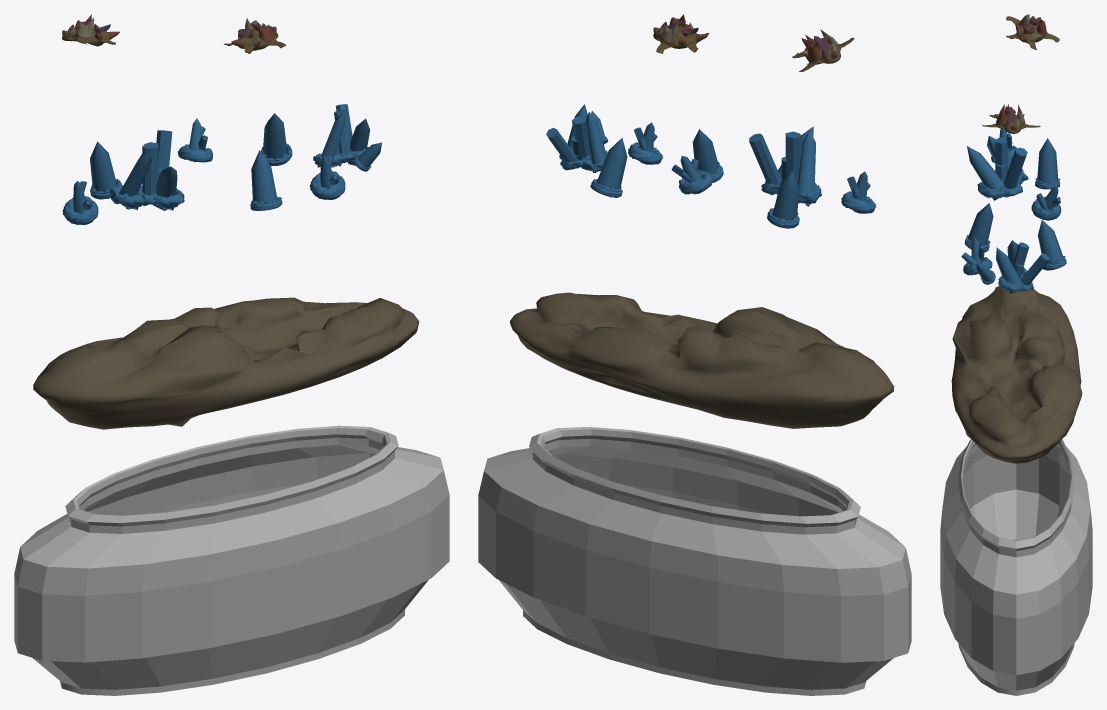
The model's file is full fish tank for painting.fbx.
3 renders of one model, left to right at view 1: azimuth 30°, elevation 25°; view 2: azimuth 150°, elevation 25°; view 3: azimuth 270°, elevation 25°, orthographic. The views are drawn at different scales.
Parts seen in each view (by area): view 1: pCylinder1, Rock_fish_Retopoed:Dirt, quad_full_gem:pCylinder3, pCylinder3, pCone6, Single_Gem:pCone2, pCone2, pCone5, pCone4, Rocky_fish:Fish1, Rocky_fish1:Fish1, Single_Three_peice_gem:pCone4; view 2: pCylinder1, Rock_fish_Retopoed:Dirt, quad_full_gem:pCylinder3, pCylinder3, pCone2, Single_Gem:pCone2, Rocky_fish:Fish1, Rocky_fish1:Fish1, Single_Three_peice_gem:pCone4, pCone4, pCone5, pCone6; view 3: pCylinder1, Rock_fish_Retopoed:Dirt, quad_full_gem:pCylinder3, pCylinder3, Single_Gem:pCone2, Rocky_fish1:Fish1, pCone2, pCone6, Single_Three_peice_gem:pCone4, Rocky_fish:Fish1, pCone4, Rock_fish_Retopoed:Gem (+1 smaller).
Boxes of the visible parts, bbox=[...] form: pCylinder1: bbox=[14, 425, 449, 695]; Rock_fish_Retopoed:Dirt: bbox=[33, 297, 419, 429]; quad_full_gem:pCylinder3: bbox=[109, 130, 184, 210]; pCylinder3: bbox=[313, 104, 369, 167]; pCone6: bbox=[250, 150, 282, 210]; Single_Gem:pCone2: bbox=[90, 141, 121, 199]; pCone2: bbox=[260, 113, 292, 165]; pCone5: bbox=[62, 181, 98, 224]; pCone4: bbox=[309, 156, 345, 199]; Rocky_fish:Fish1: bbox=[224, 19, 285, 53]; Rocky_fish1:Fish1: bbox=[62, 15, 119, 46]; Single_Three_peice_gem:pCone4: bbox=[177, 118, 212, 162]; pCylinder1: bbox=[478, 427, 911, 695]; Rock_fish_Retopoed:Dirt: bbox=[510, 292, 894, 428]; quad_full_gem:pCylinder3: bbox=[749, 126, 821, 206]; pCylinder3: bbox=[546, 104, 607, 172]; pCone2: bbox=[590, 138, 627, 197]; Single_Gem:pCone2: bbox=[767, 171, 799, 228]; Rocky_fish:Fish1: bbox=[653, 15, 709, 53]; Rocky_fish1:Fish1: bbox=[792, 30, 854, 71]; Single_Three_peice_gem:pCone4: bbox=[671, 155, 713, 194]; pCone4: bbox=[628, 122, 663, 164]; pCone5: bbox=[841, 171, 876, 213]; pCone6: bbox=[692, 129, 723, 182]; pCylinder1: bbox=[940, 439, 1092, 695]; Rock_fish_Retopoed:Dirt: bbox=[951, 286, 1082, 463]; quad_full_gem:pCylinder3: bbox=[967, 136, 1028, 200]; pCylinder3: bbox=[996, 240, 1049, 293]; Single_Gem:pCone2: bbox=[1035, 138, 1060, 189]; Rocky_fish1:Fish1: bbox=[1006, 14, 1059, 49]; pCone2: bbox=[1037, 220, 1066, 270]; pCone6: bbox=[964, 203, 993, 252]; Single_Three_peice_gem:pCone4: bbox=[1031, 186, 1061, 220]; Rocky_fish:Fish1: bbox=[982, 105, 1040, 133]; pCone4: bbox=[961, 237, 992, 275]; Rock_fish_Retopoed:Gem: bbox=[976, 263, 995, 284].
Bounding box in the file's own units: 19.08 × 27.99 × 6.95.
